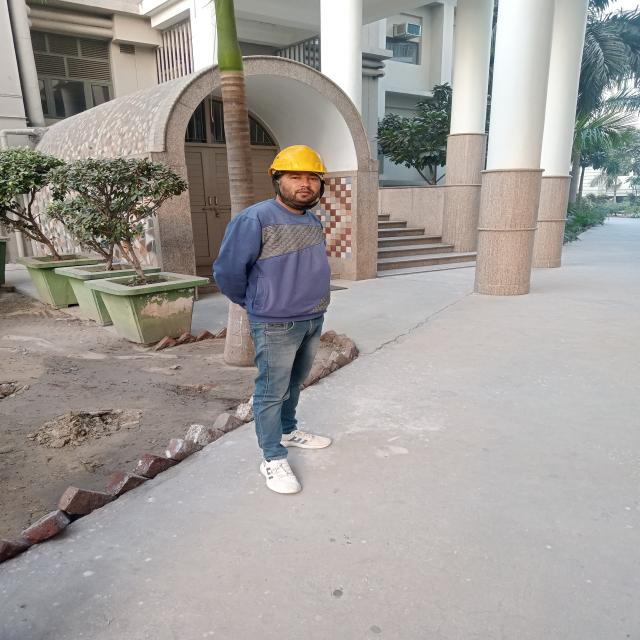no jacket: (218, 137, 356, 503)
